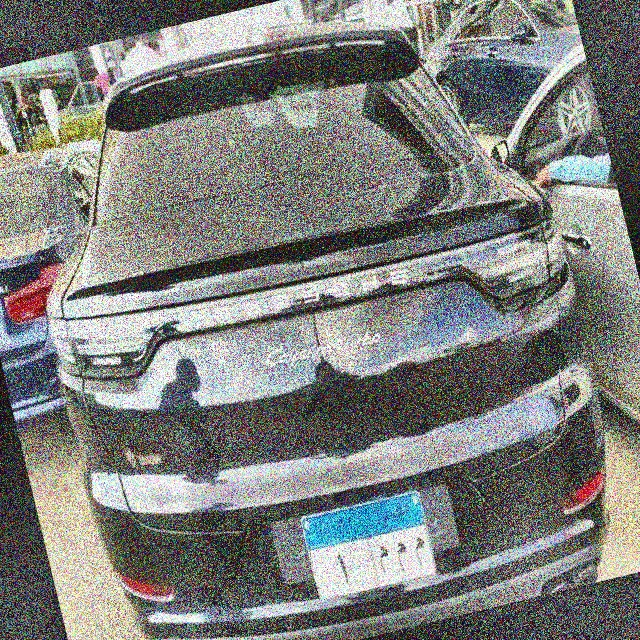License Plate: (297, 485, 439, 607)
